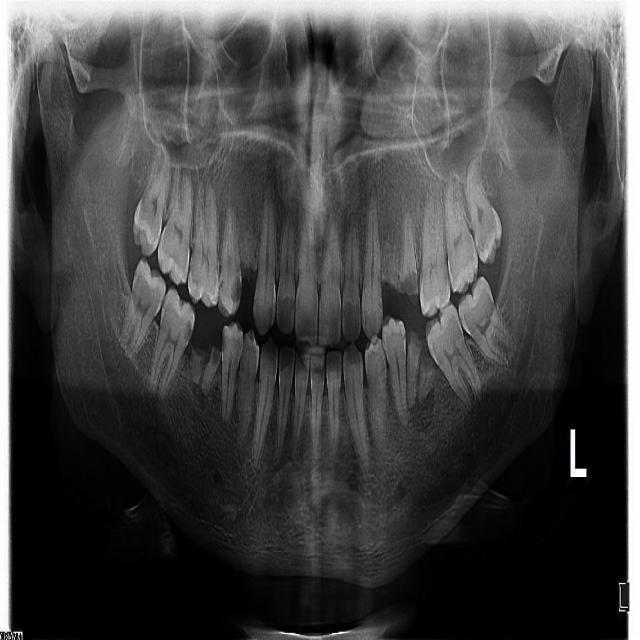Caries: (479, 218, 499, 253), (230, 264, 242, 307), (188, 260, 199, 287), (221, 329, 230, 356), (442, 257, 448, 287), (167, 248, 178, 264), (184, 322, 192, 344), (214, 273, 219, 291), (219, 277, 223, 293)
Missing teeth: (238, 265, 260, 316)
Periapical lesion: (415, 386, 434, 434), (197, 374, 211, 411), (181, 166, 196, 189), (189, 375, 201, 394), (406, 397, 416, 414)
Root Piece: (400, 212, 418, 306), (407, 327, 427, 408), (201, 338, 222, 397), (241, 224, 259, 292), (418, 341, 437, 403), (189, 333, 211, 385), (382, 241, 400, 299)
